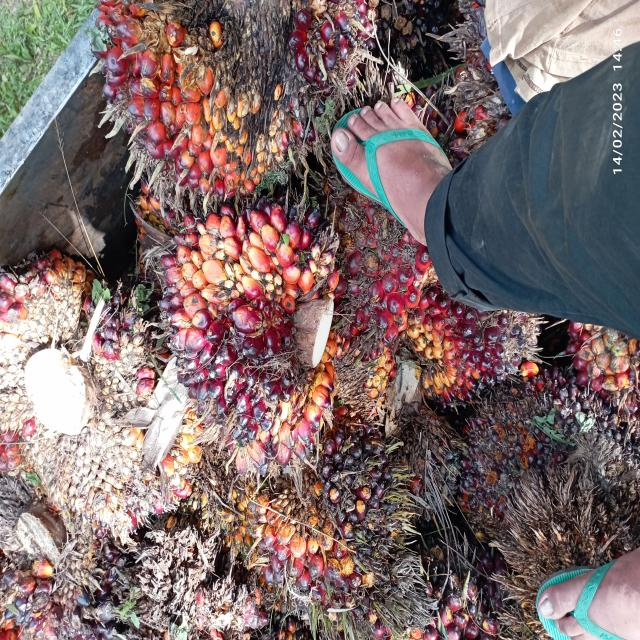fraksi 1: (149, 199, 363, 508)
fraksi 3: (85, 0, 393, 229)
